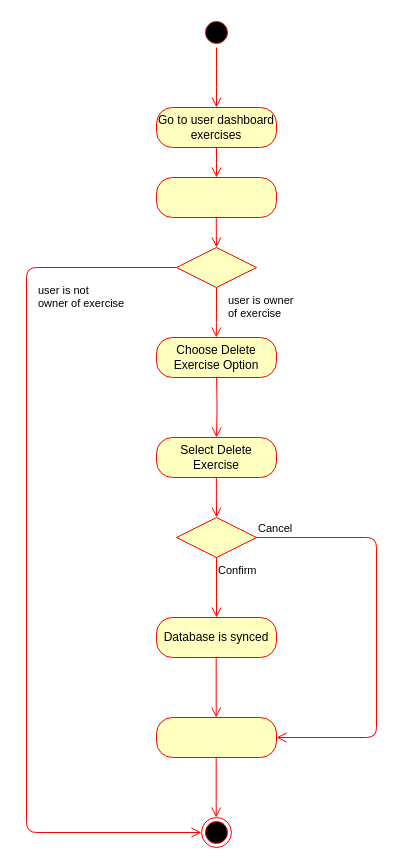
Image size: 404x865. Some labels were removed from this diagram. The centre of each missing label's shape, as x and y in pixels:
Check if user is owner of exercise: (x=216, y=197)
Returns to all exercises: (x=216, y=737)
